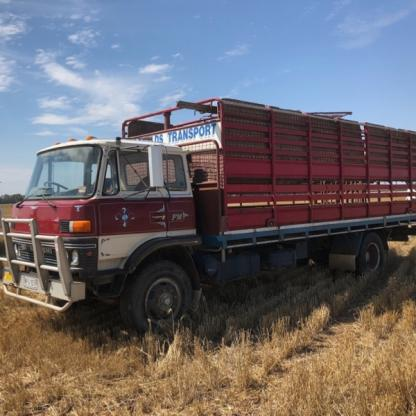truck: (1, 95, 416, 333)
